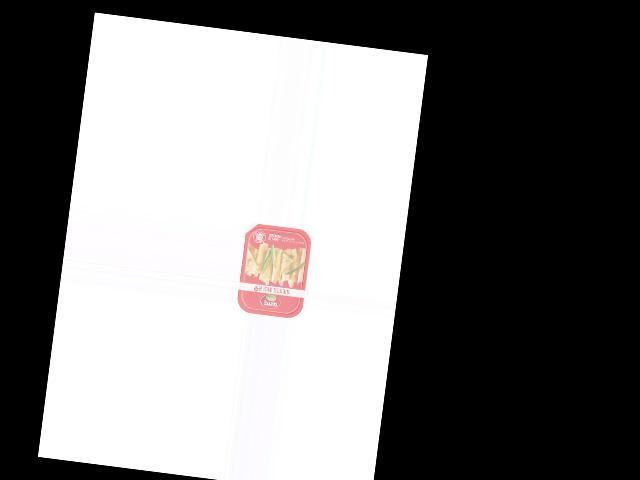cheese: (236, 222, 313, 320)
